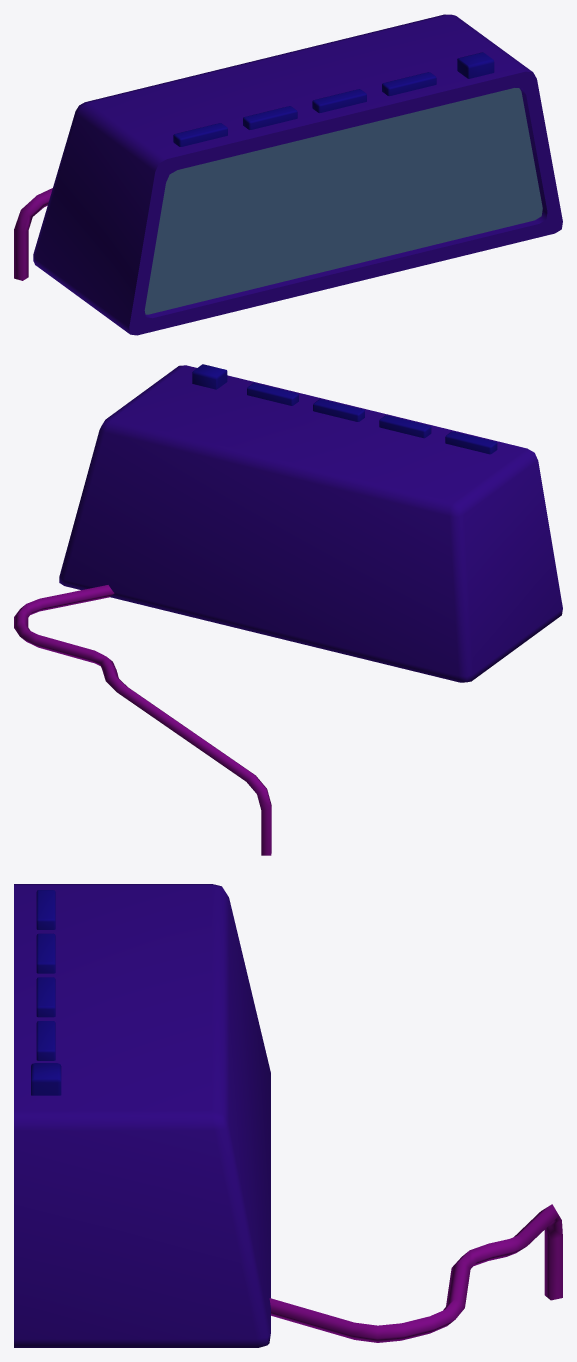
The model's file is SM_Alarm_Clock.fbx.
3 views of the same model, one above another, from view 1: azimuth 30°, elevation 25°; view 2: azimuth 150°, elevation 25°; view 3: azimuth 270°, elevation 25° (orthographic). The views are drawn at different scales.
Visible parts, largest first — view 1: SM_Alarm_Clock; view 2: SM_Alarm_Clock; view 3: SM_Alarm_Clock.
Part boxes in pixels (bbox=[...]): SM_Alarm_Clock: bbox=[14, 14, 562, 335]; SM_Alarm_Clock: bbox=[14, 364, 562, 855]; SM_Alarm_Clock: bbox=[14, 884, 562, 1347].
Bounding box in the file's own units: 33.08 × 21.94 × 28.19.
